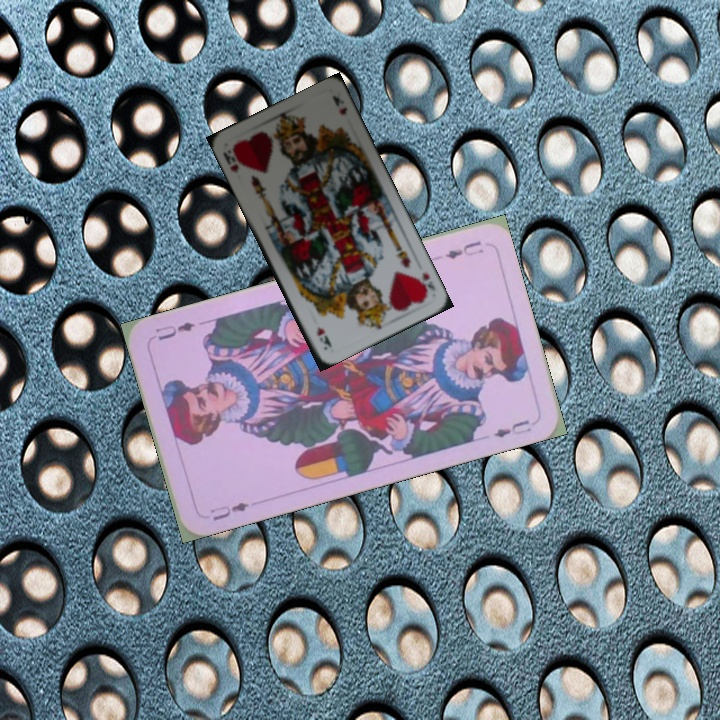EU: (206, 498, 251, 524), (441, 237, 486, 262)
HK: (413, 269, 438, 299), (219, 146, 242, 176)
